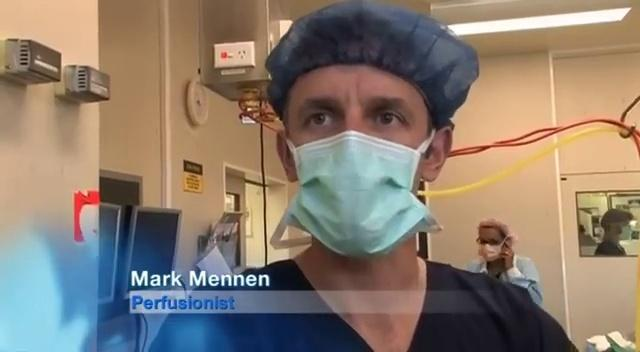doctor: (145, 1, 580, 350)
others: (465, 217, 543, 307)
